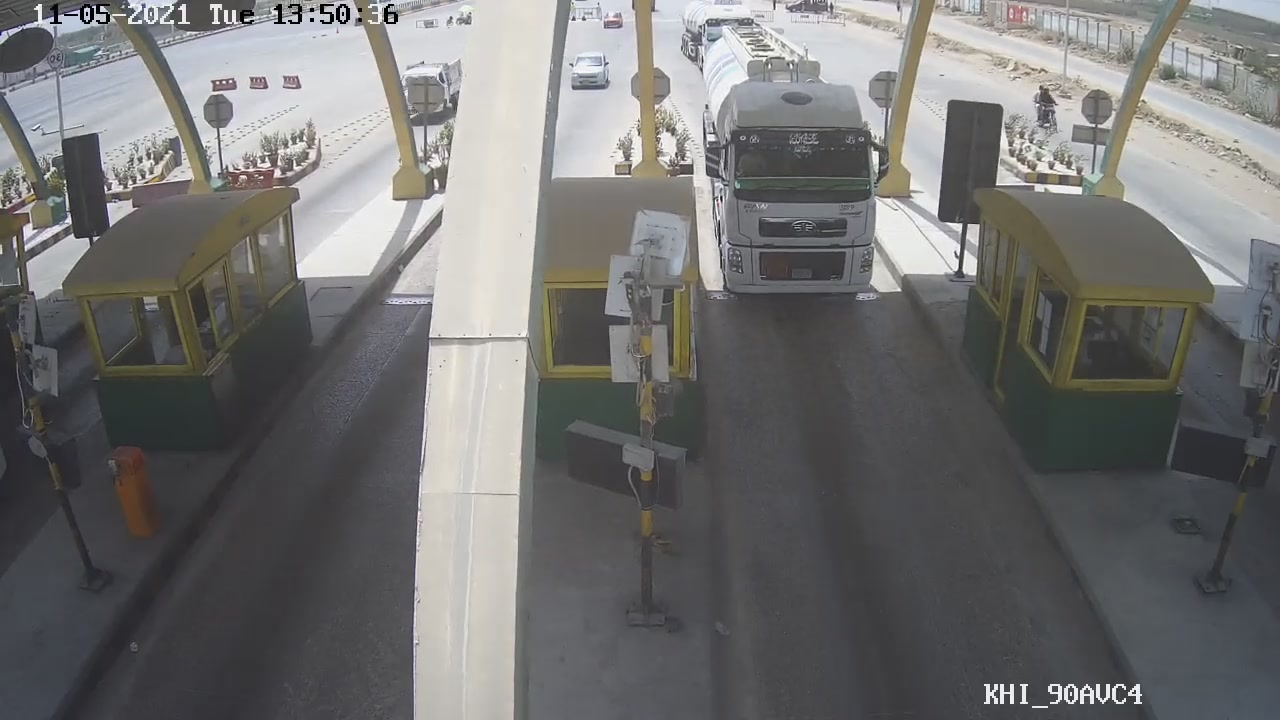F6: (706, 22, 899, 301)
